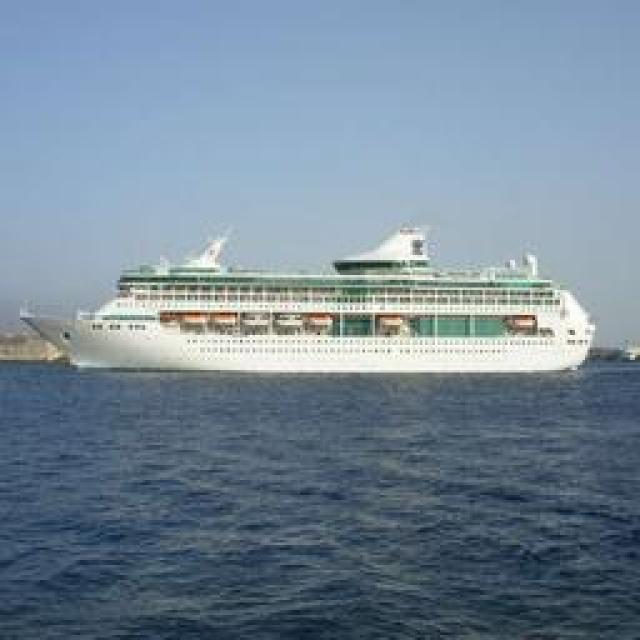ship2: (23, 226, 598, 378)
